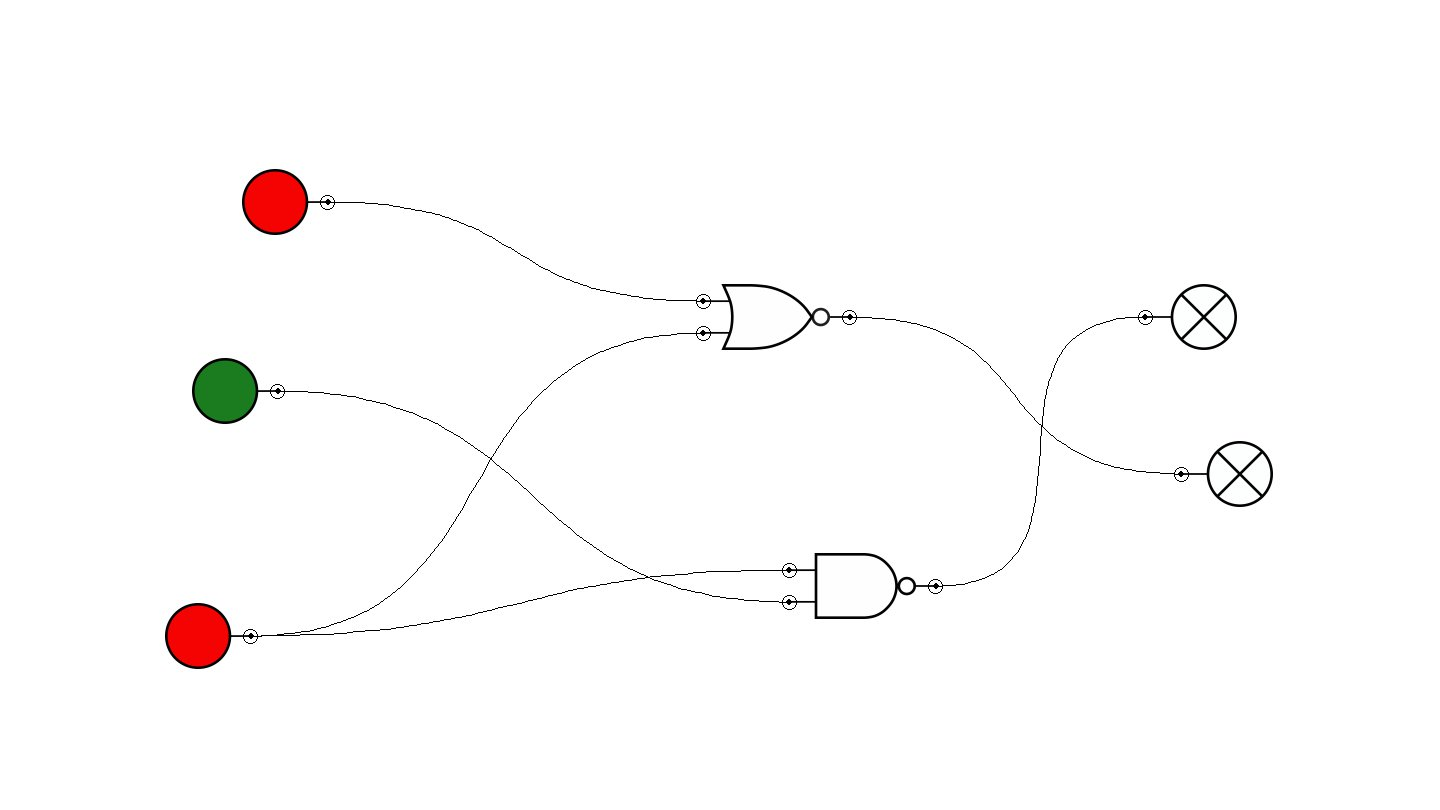bulb: (1138, 284, 1237, 350), (1174, 441, 1273, 507)
nand: (782, 553, 943, 619)
nor: (696, 284, 857, 350)
switch_False: (242, 169, 335, 235), (165, 603, 258, 669)
switch_True: (192, 358, 285, 424)
